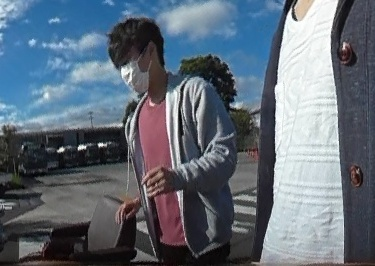person: (103, 16, 235, 263)
